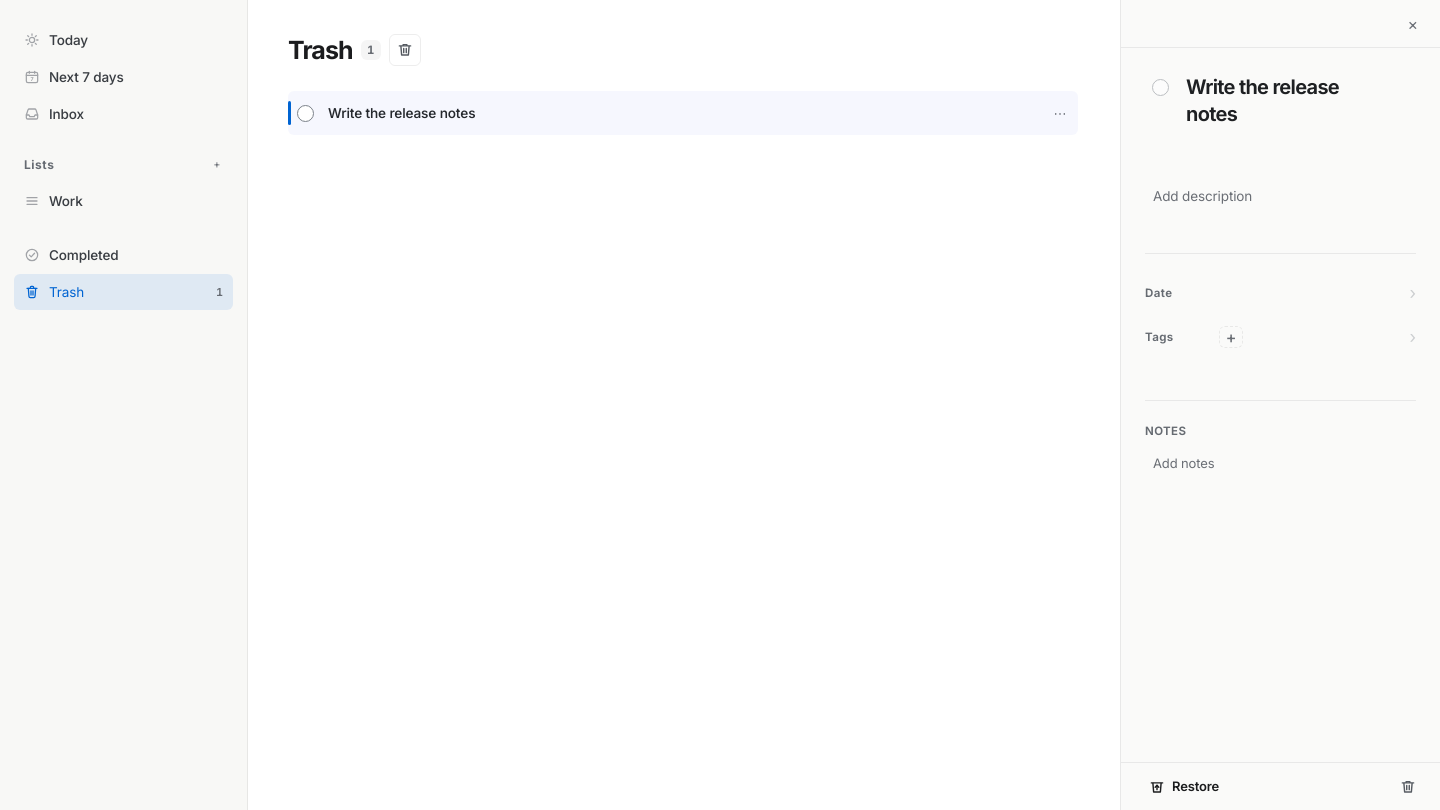
Test: emptying the Trash › asks with the number, and empties nothing until it is answered
The image size is (1440, 810).
Later steps or results of the test are not shown.
Click the button named "Empty trash" at (405, 50), box x1=389 y1=34 x2=421 y2=66
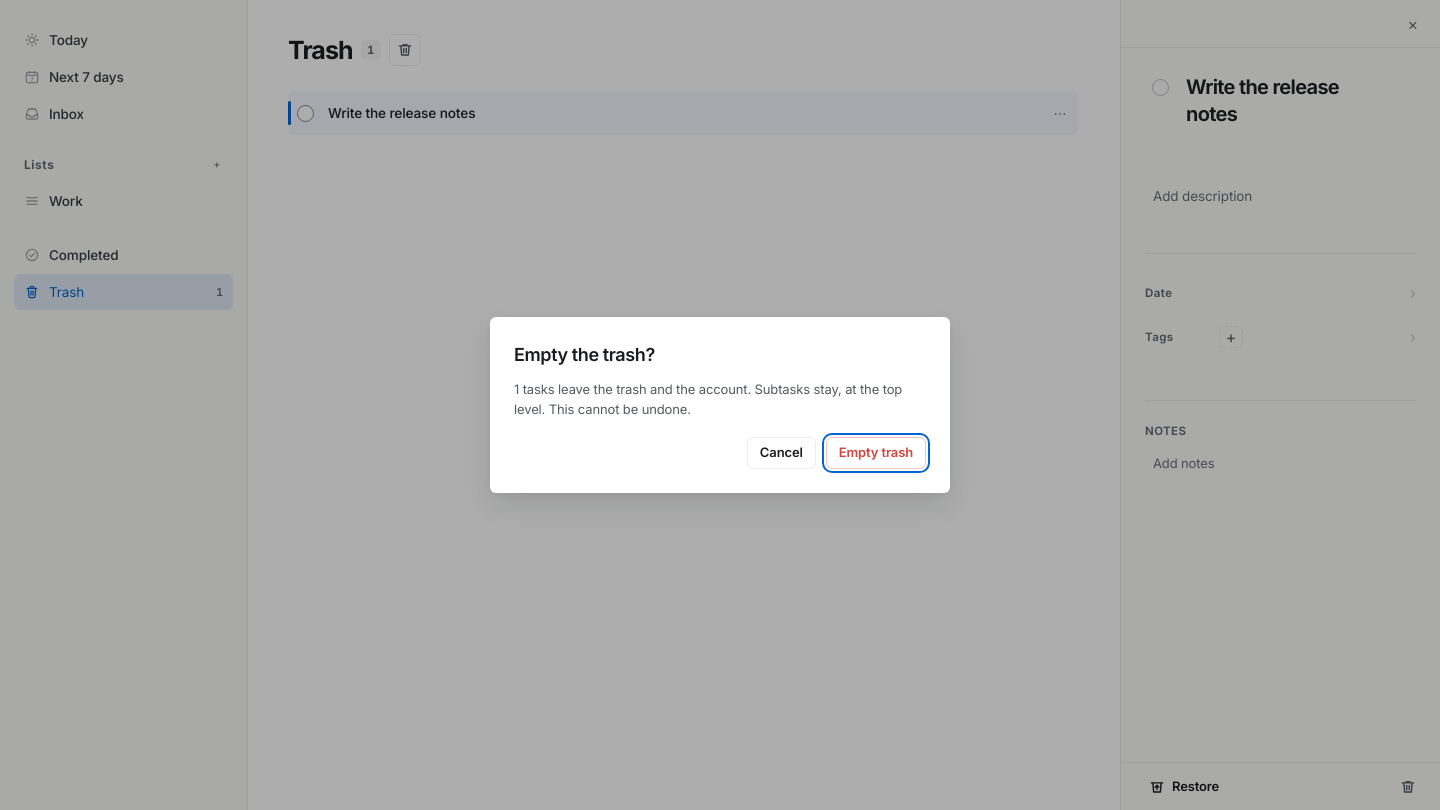
Now the dialog shows "1 tasks", box x1=514 y1=381 x2=902 y2=416
